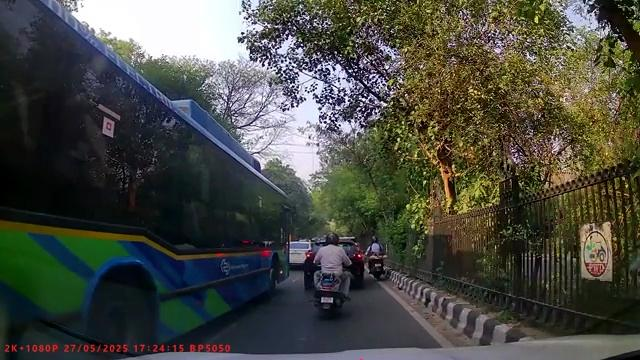motorcycle_with_helmet: (311, 231, 352, 316)
